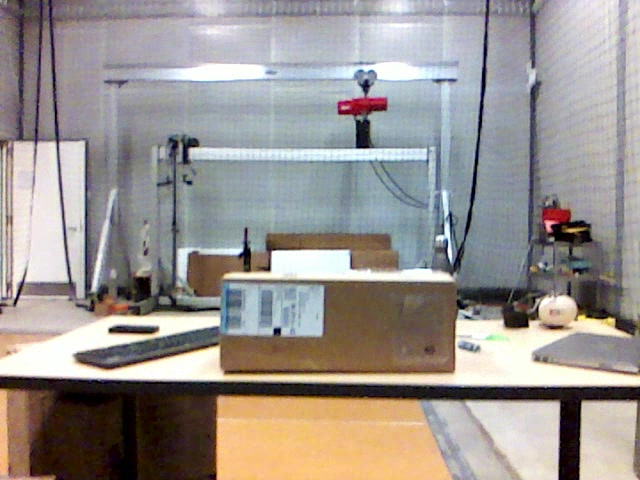box: (221, 272, 458, 371)
